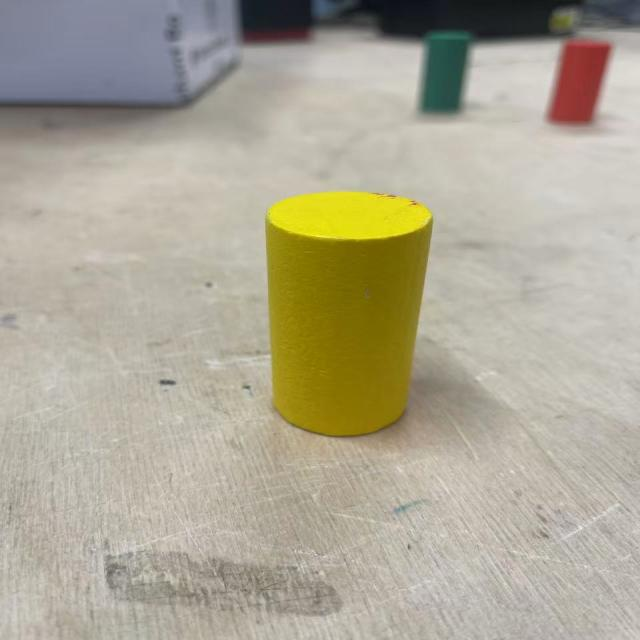yellow_cylinder: (265, 191, 434, 437)
